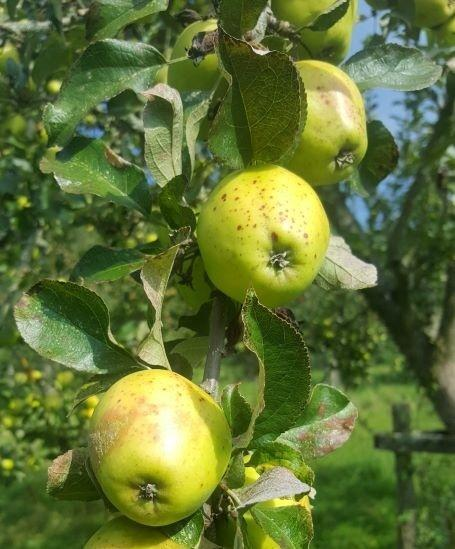apple: (86, 366, 233, 527), (195, 163, 334, 308), (285, 60, 366, 190), (275, 1, 361, 58)
